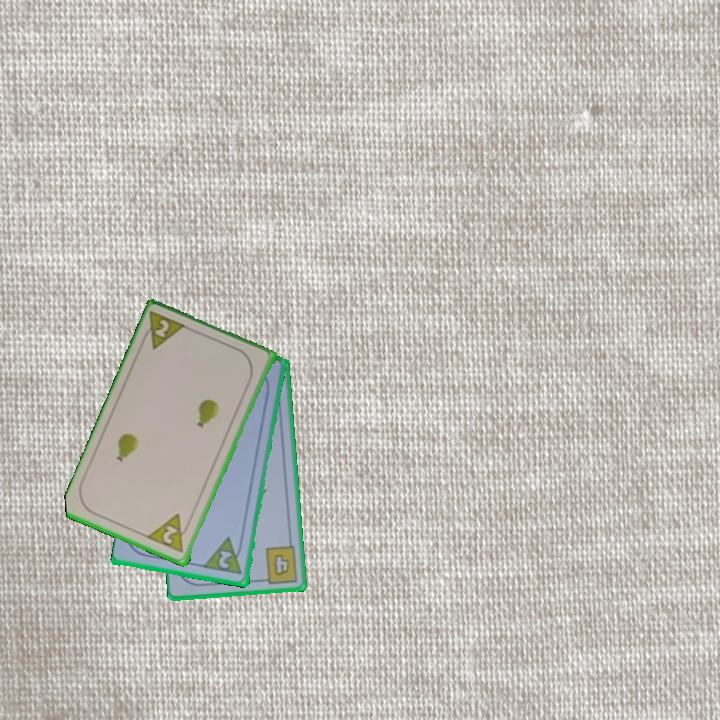2p: (137, 308, 191, 353), (145, 510, 193, 556), (215, 547, 235, 572)
4b: (257, 542, 301, 586)
